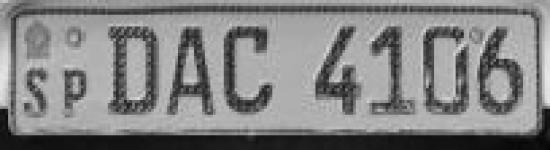0: (420, 21, 471, 121)
1: (366, 21, 418, 120)
4: (312, 21, 366, 119)
6: (470, 22, 528, 116)
A: (163, 23, 219, 118)
C: (220, 22, 279, 116)
D: (105, 24, 164, 118)
P: (57, 59, 92, 122)
S: (21, 65, 59, 122)
